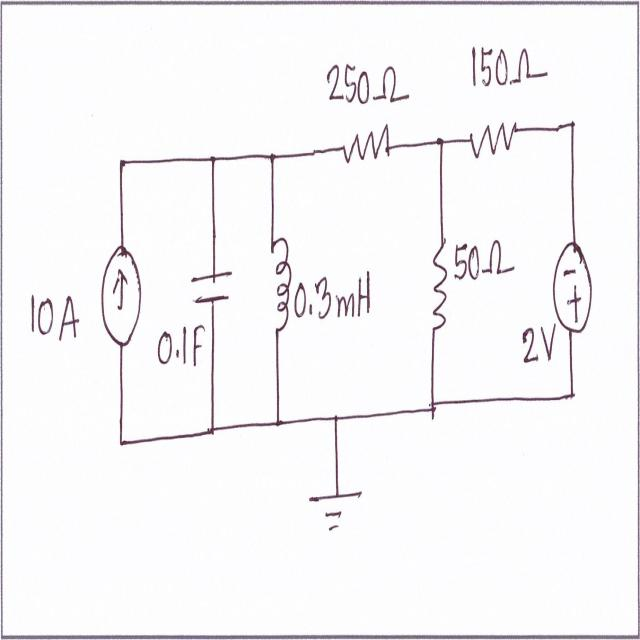capacitor: (189, 257, 235, 317)
current_source: (96, 230, 148, 358)
ground: (304, 484, 370, 544)
inductor: (269, 228, 292, 343)
resistor: (338, 119, 393, 174), (467, 115, 522, 165), (429, 230, 449, 341)
voltage_source: (548, 232, 602, 341)
